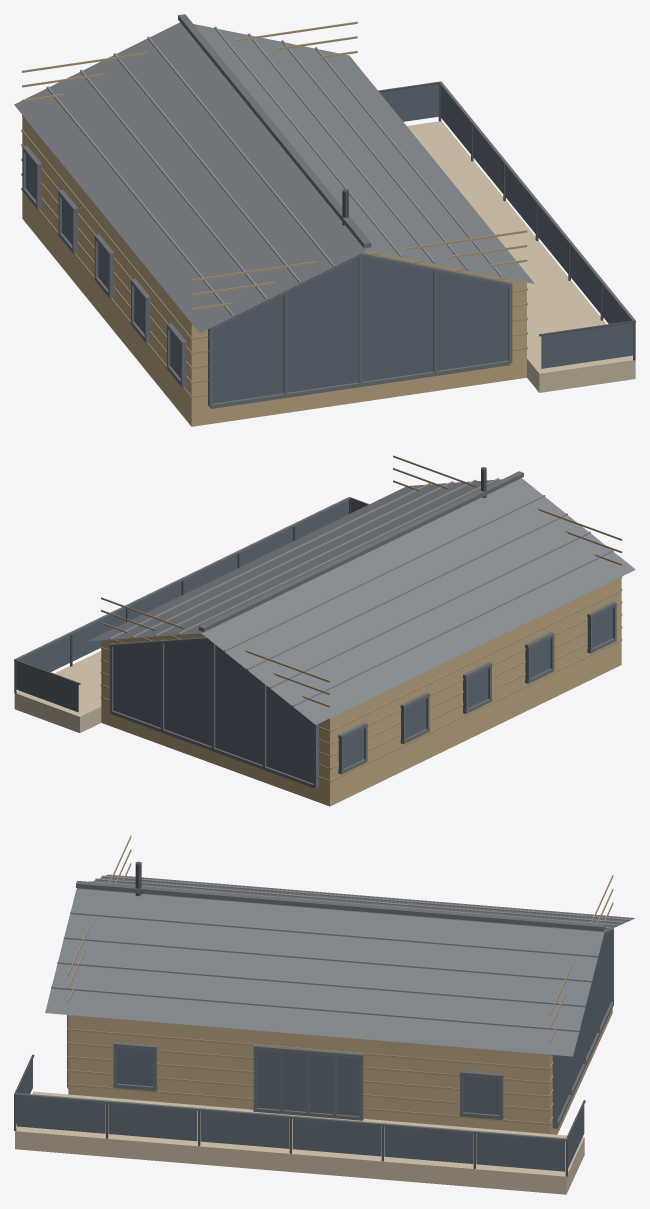
The picture shows the model from 3 angles, top to bottom: view 1: azimuth 30°, elevation 25°; view 2: azimuth 150°, elevation 25°; view 3: azimuth 270°, elevation 25°; orthographic projection. The views are drawn at different scales.
Parts seen in each view (by area): view 1: slate, window_glass_015, door_wood, slate_dk, larch, slate_lt, door_wood_p, window_glass_007, window_glass_008, pipe, window_glass_003, window_glass_002 (+4 smaller); view 2: slate, door_wood, window_glass_016, slate_dk, slate_lt, door_wood_p, larch, window_glass_008, window_glass_005, window_glass_006, window_glass_002, window_glass_001 (+8 smaller); view 3: slate, door_wood, larch, slate_dk, slate_lt, door_wood_p, window_glass_002, window_glass_003, window_glass_004, window_glass_005, window_glass_001, window_glass_006 (+9 smaller).
Part boxes in pixels (left/top/right/bottom): slate: left=14, top=22, right=534, bottom=332; window_glass_015: left=213, top=256, right=508, bottom=403; door_wood: left=22, top=115, right=526, bottom=426; slate_dk: left=22, top=14, right=635, bottom=408; larch: left=407, top=121, right=635, bottom=392; slate_lt: left=46, top=26, right=502, bottom=316; door_wood_p: left=21, top=21, right=527, bottom=398; window_glass_007: left=541, top=323, right=633, bottom=368; window_glass_008: left=380, top=84, right=438, bottom=121; pipe: left=342, top=81, right=635, bottom=360; window_glass_003: left=537, top=206, right=568, bottom=273; window_glass_002: left=570, top=245, right=600, bottom=313; slate: left=88, top=478, right=635, bottom=724; door_wood: left=101, top=493, right=621, bottom=806; window_glass_016: left=113, top=640, right=313, bottom=783; slate_dk: left=14, top=471, right=616, bottom=788; slate_lt: left=109, top=478, right=613, bottom=706; door_wood_p: left=100, top=455, right=622, bottom=782; larch: left=14, top=651, right=101, bottom=732; window_glass_008: left=16, top=662, right=78, bottom=712; window_glass_005: left=72, top=608, right=125, bottom=660; window_glass_006: left=19, top=635, right=70, bottom=671; window_glass_002: left=239, top=527, right=293, bottom=566; window_glass_001: left=295, top=500, right=348, bottom=539; slate: left=45, top=874, right=635, bottom=1056; door_wood: left=68, top=1008, right=612, bottom=1134; larch: left=15, top=1091, right=584, bottom=1194; slate_dk: left=15, top=880, right=613, bottom=1141; slate_lt: left=51, top=875, right=629, bottom=1031; door_wood_p: left=67, top=835, right=613, bottom=1125; window_glass_002: left=108, top=1103, right=197, bottom=1141; window_glass_003: left=200, top=1111, right=289, bottom=1148; window_glass_004: left=292, top=1118, right=381, bottom=1156; window_glass_005: left=384, top=1126, right=473, bottom=1163; window_glass_001: left=16, top=1096, right=105, bottom=1133; window_glass_006: left=476, top=1134, right=564, bottom=1171.
Size of the model in its own units: 13.23 by 5.07 by 15.61.
